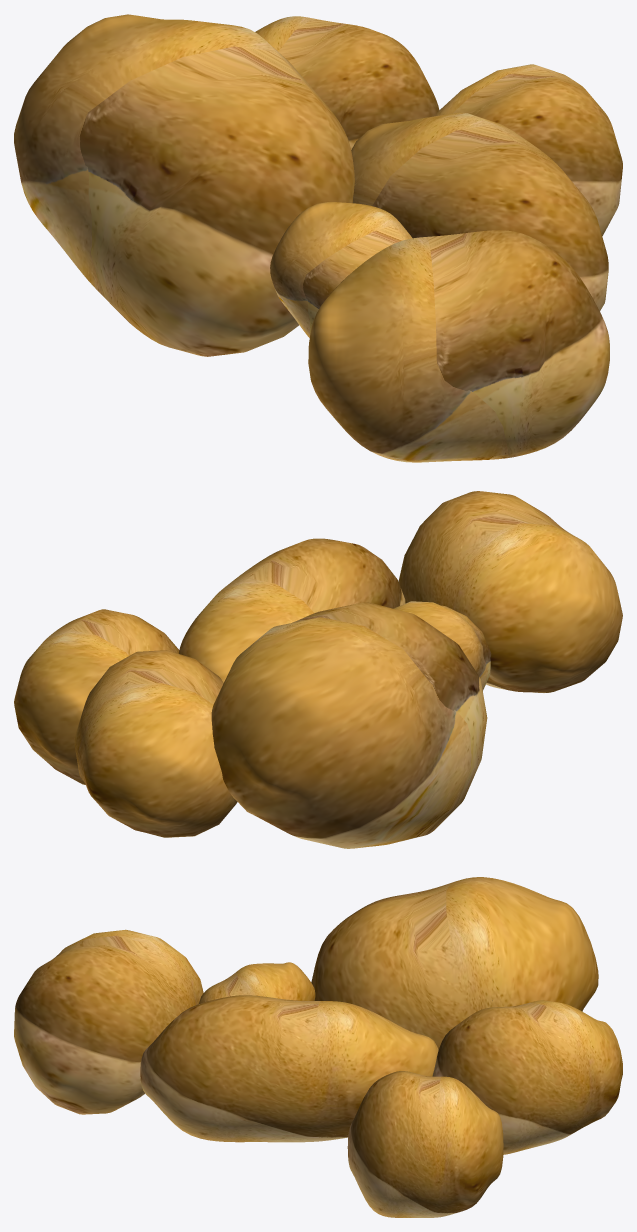
The model's file is potato_harvest.glb.
3 views of the same model, one above another, from view 1: azimuth 30°, elevation 25°; view 2: azimuth 150°, elevation 25°; view 3: azimuth 270°, elevation 25° (orthographic). The views are drawn at different scales.
Parts seen in each view (by area): view 1: Plane.002, Plane.004, Plane, Plane.005, Plane.003, Plane.001; view 2: Plane.002, Plane.004, Plane.003, Plane, Plane.005, Plane.001; view 3: Plane, Plane.002, Plane.004, Plane.003, Plane.005, Plane.001.
Part boxes in pixels (bbox=[...]): Plane.002: bbox=[14, 14, 354, 356]; Plane.004: bbox=[308, 230, 609, 462]; Plane: bbox=[351, 112, 608, 310]; Plane.005: bbox=[436, 64, 622, 235]; Plane.003: bbox=[255, 16, 439, 149]; Plane.001: bbox=[270, 202, 412, 337]; Plane.002: bbox=[211, 602, 487, 848]; Plane.004: bbox=[398, 491, 622, 692]; Plane.003: bbox=[74, 650, 237, 837]; Plane: bbox=[179, 538, 405, 682]; Plane.005: bbox=[14, 609, 179, 784]; Plane.001: bbox=[393, 601, 491, 690]; Plane: bbox=[140, 995, 438, 1142]; Plane.002: bbox=[311, 877, 598, 1050]; Plane.004: bbox=[14, 929, 203, 1114]; Plane.003: bbox=[432, 1000, 622, 1154]; Plane.005: bbox=[347, 1071, 503, 1217]; Plane.001: bbox=[199, 962, 315, 1003].
Size of the model in its own units: 6.27 by 3.17 by 8.27.
1 material, 1 textured.
